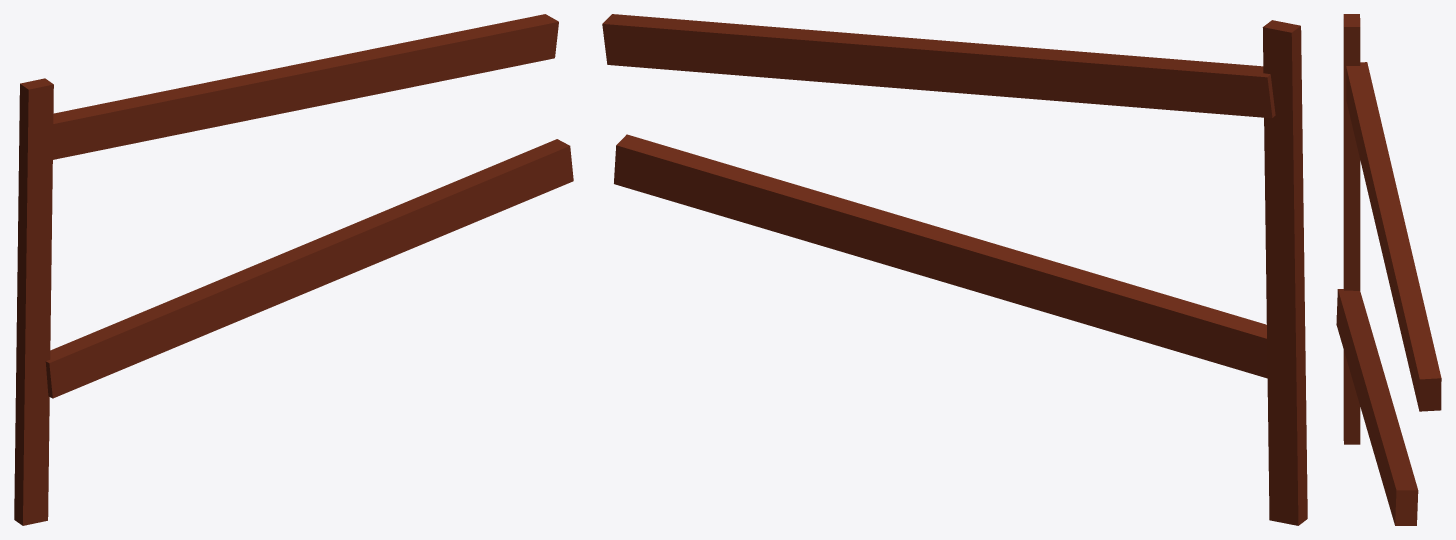
The model's file is cerca 2.fbx.
3 renders of one model, left to right at view 1: azimuth 30°, elevation 25°; view 2: azimuth 150°, elevation 25°; view 3: azimuth 270°, elevation 25°, orthographic. The views are drawn at different scales.
Parts seen in each view (by area): view 1: Cube.008; view 2: Cube.008; view 3: Cube.008.
Boxes of the visible parts, box(x1,y1,x2,y2) form: Cube.008: box(14, 14, 573, 525); Cube.008: box(602, 14, 1307, 525); Cube.008: box(1336, 14, 1441, 525).
Bounding box in the file's own units: 431 × 311 × 70.24.
